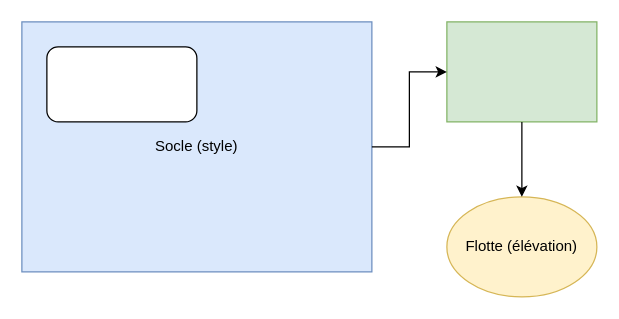
Some shapes in this 619 by 319 pixel diagram are drawn without their labels. The centre of each missing label's shape, as x and y in pixels:
"Hauteur (objet)" belongs at (521,71).
"Posé sur le socle" belongs at (121,84).
